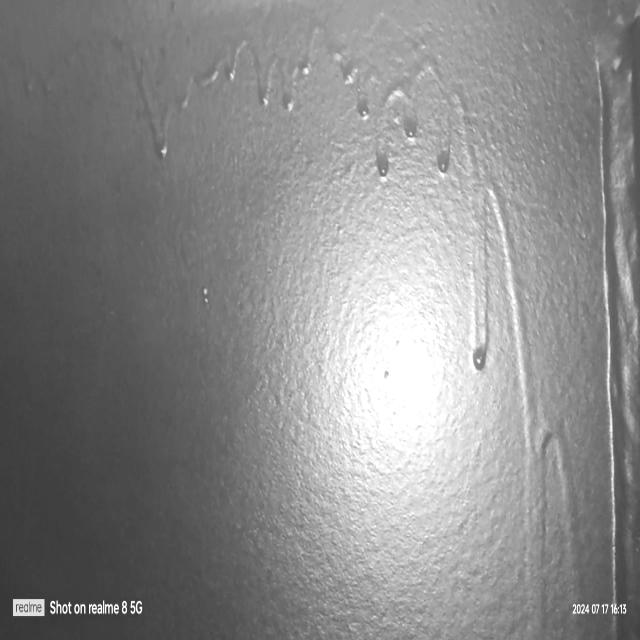paint drips: (12, 3, 460, 201), (461, 104, 593, 640)
